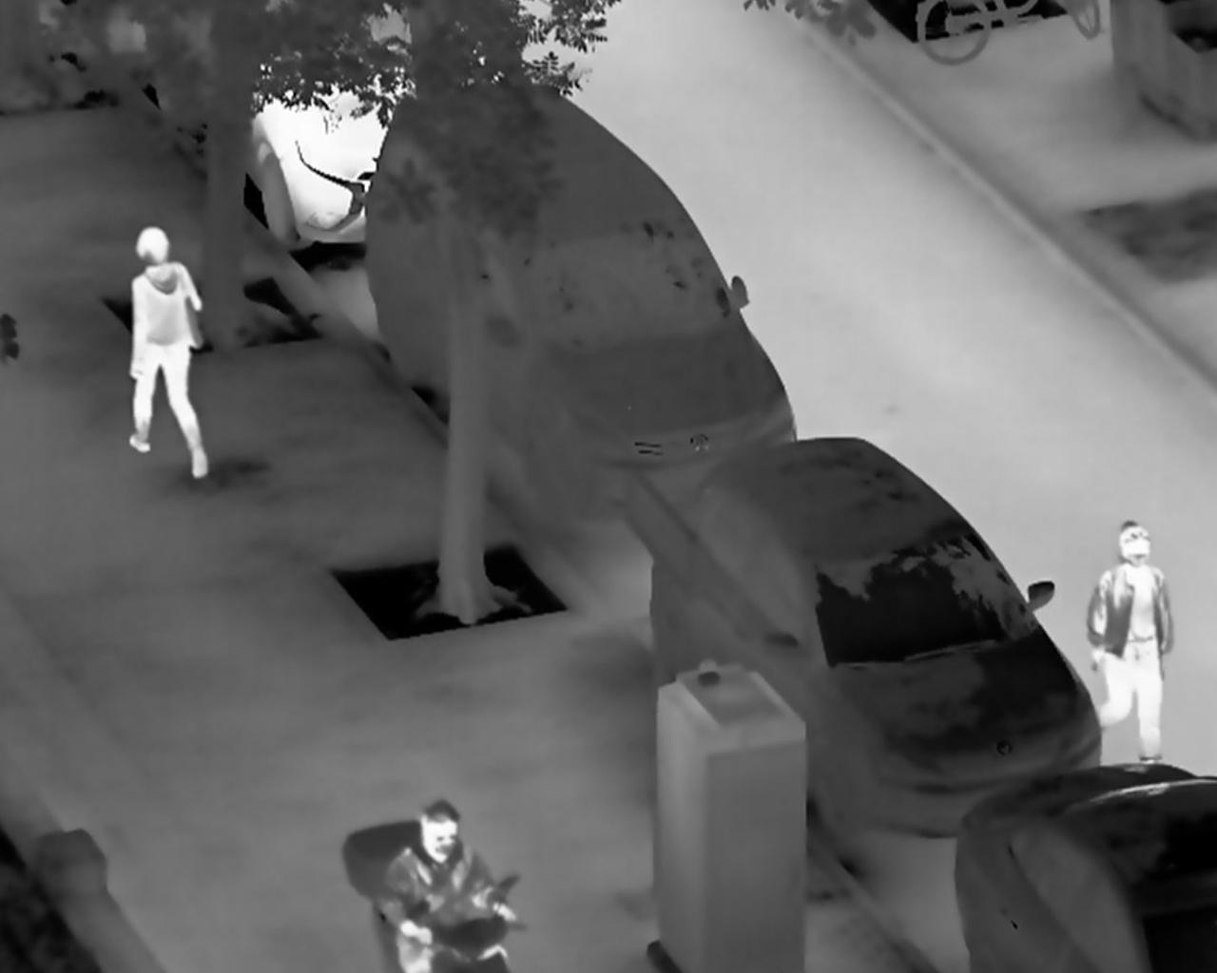person: (377, 799, 522, 973), (1084, 522, 1179, 767), (125, 225, 209, 480)
